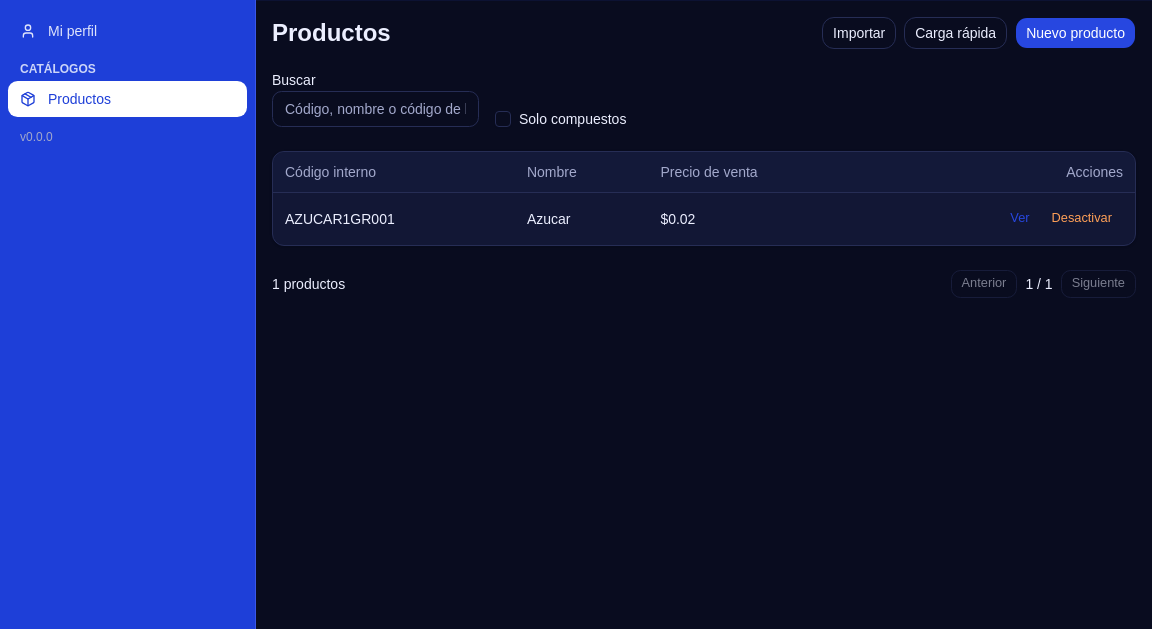
it: Borrar un producto (F2-PROD) › el primer clic en «Quitar» PREGUNTA y nombra el producto
This screenshot has width=1152, height=629.
Click the button "Ver ".
click(1020, 218)  # box [999, 204, 1040, 232]
(page scrolled)
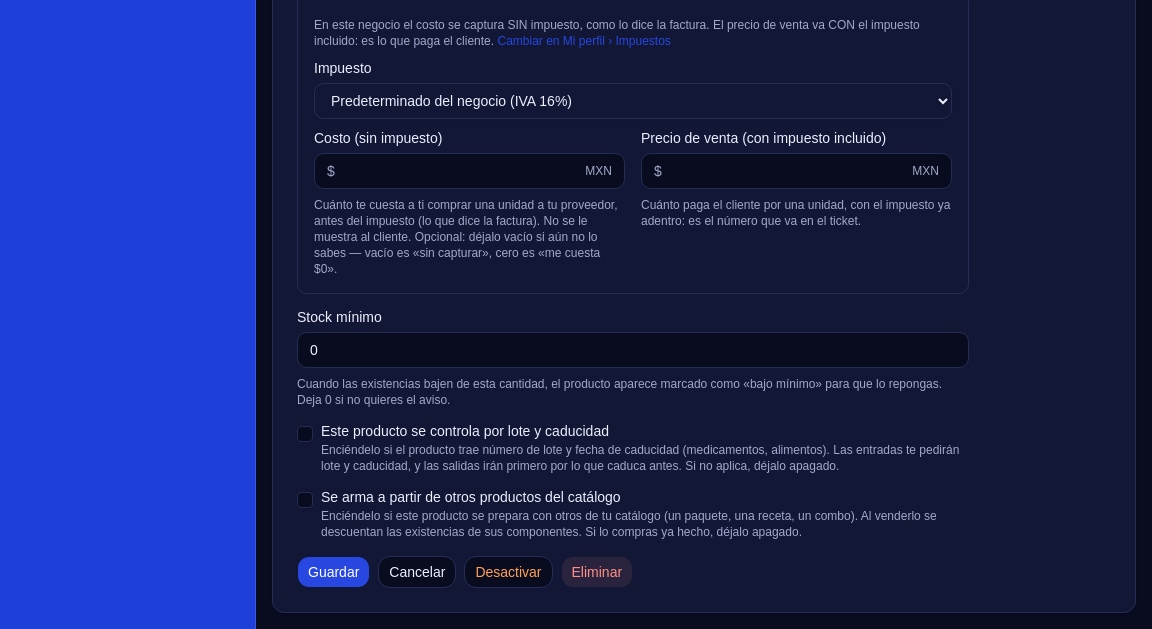
Click the button "Eliminar".
click(597, 572)  # box [560, 556, 633, 588]
(page scrolled)
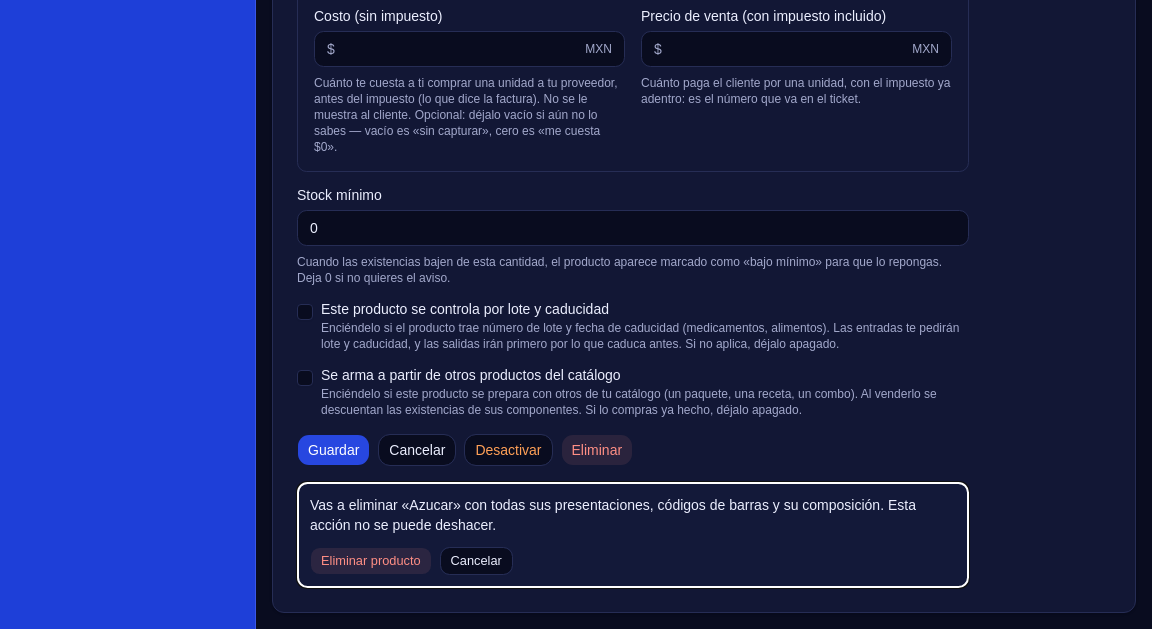
Check: the dialog with test id "remove-product-dialog" shows "Azucar", box [310, 497, 916, 533]
